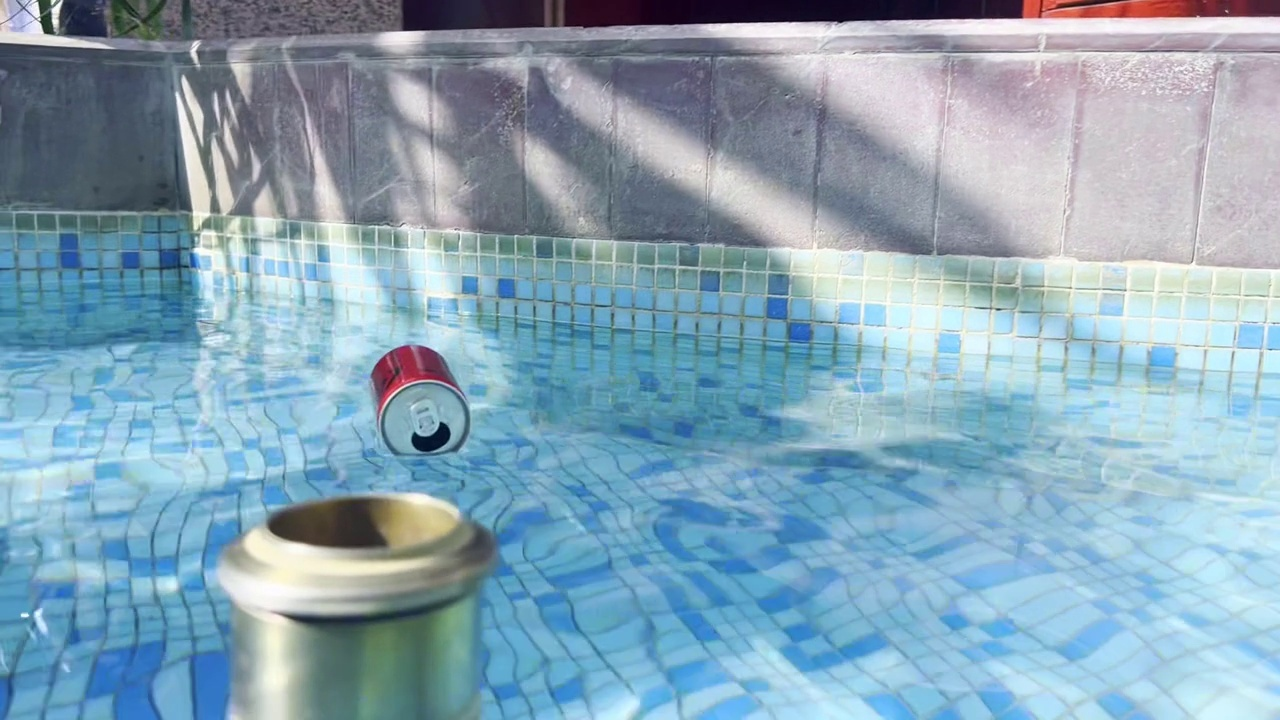debris: (355, 334, 479, 464)
